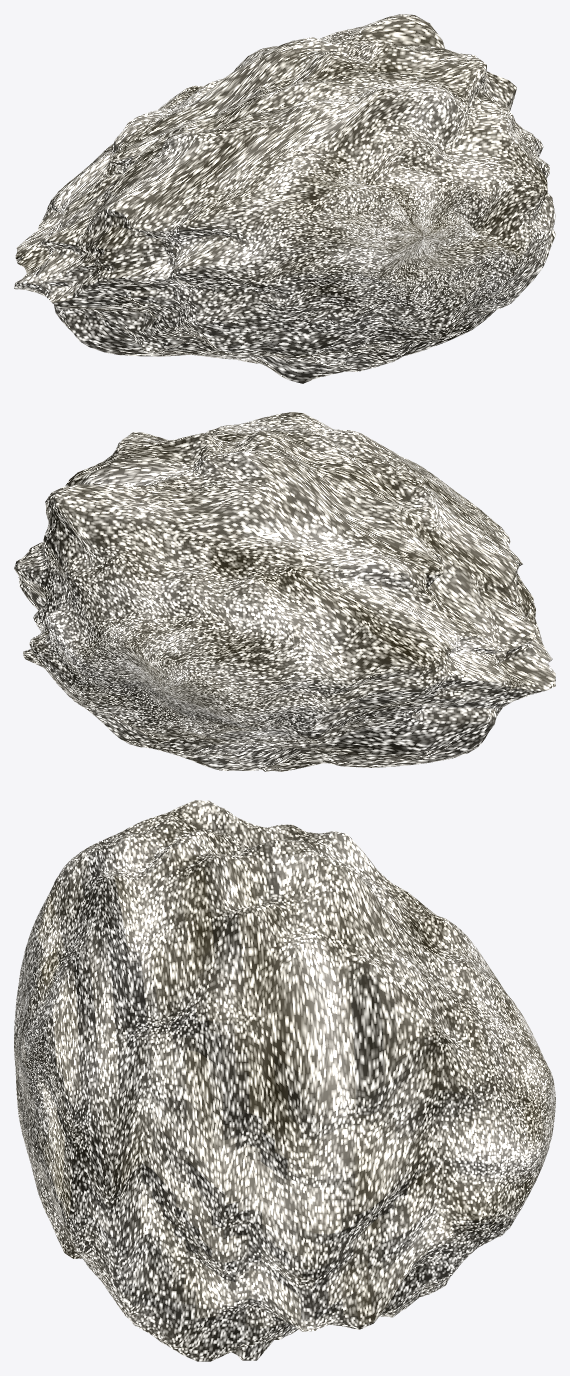
Rendered from meteor.glb.
3 renders of one model, top to bottom at view 1: azimuth 30°, elevation 25°; view 2: azimuth 150°, elevation 25°; view 3: azimuth 270°, elevation 25°, orthographic. The views are drawn at different scales.
Parts seen in each view (by area): view 1: asteroid OBJ; view 2: asteroid OBJ; view 3: asteroid OBJ.
Part boxes in pixels (left/top/right/bottom): asteroid OBJ: left=14, top=14, right=555, bottom=383; asteroid OBJ: left=14, top=412, right=555, bottom=771; asteroid OBJ: left=14, top=800, right=555, bottom=1361.
Size of the model in its own units: 39.05 by 23.17 by 24.69.
1 material, 1 textured.
